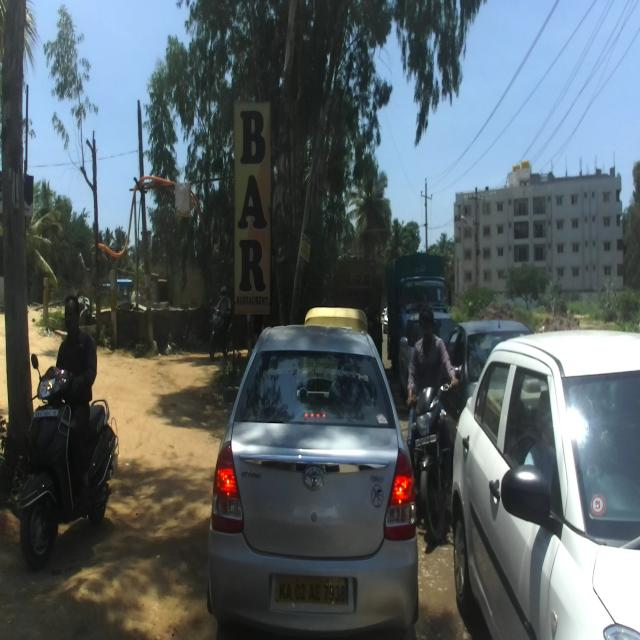car: (206, 319, 420, 635), (452, 328, 640, 639)
motorcycle: (402, 376, 476, 545)
scooter: (17, 342, 118, 568)
